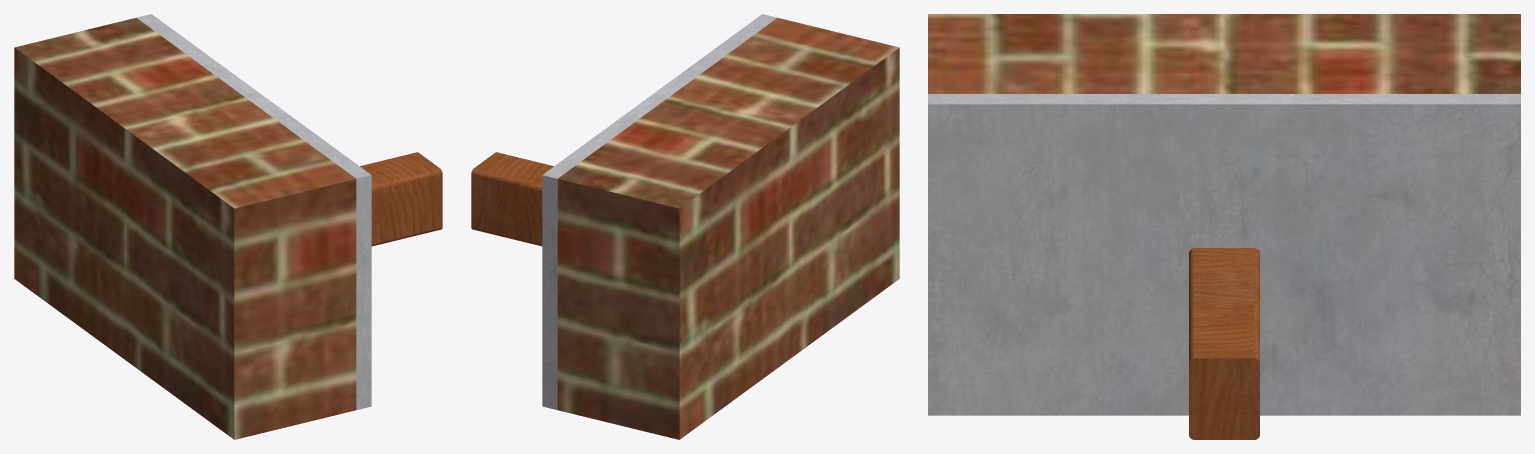
File: handrail-brick-wall-forked-bar.glb
3 renders of one model, left to right at view 1: azimuth 30°, elevation 25°; view 2: azimuth 150°, elevation 25°; view 3: azimuth 270°, elevation 25°, orthographic. The views are drawn at different scales.
Parts seen in each view (by area): view 1: 砖墙局部, 墙面抹面层, 木扶手端部; view 2: 砖墙局部, 墙面抹面层, 木扶手端部; view 3: 墙面抹面层, 砖墙局部, 木扶手端部.
Boxes of the visible parts, box(x1,y1,x2,y2) form: 砖墙局部: box(14, 17, 356, 439); 墙面抹面层: box(137, 14, 371, 409); 木扶手端部: box(360, 152, 442, 246); 砖墙局部: box(557, 17, 899, 439); 墙面抹面层: box(542, 14, 776, 409); 木扶手端部: box(471, 152, 553, 246); 墙面抹面层: box(928, 94, 1520, 415); 砖墙局部: box(928, 14, 1520, 93); 木扶手端部: box(1189, 248, 1259, 439).
Bounding box in the file's own units: 0.4 × 0.29 × 0.5.
5 materials, 4 textured.
